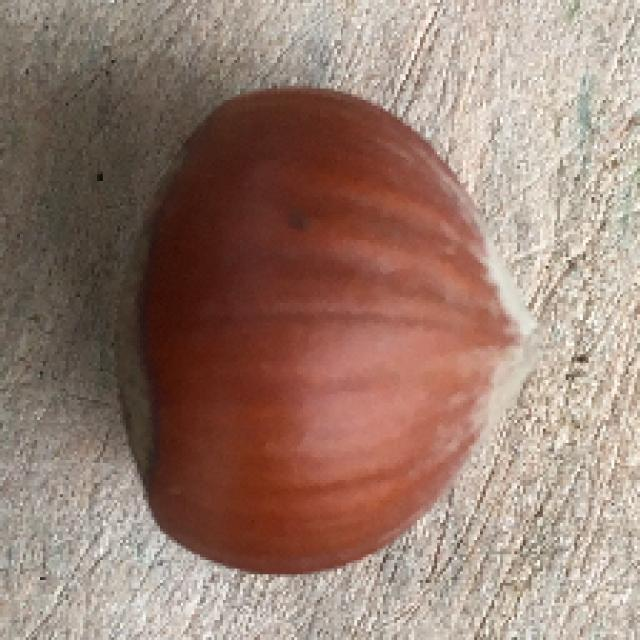qualityHazelnut: (101, 80, 540, 582)
